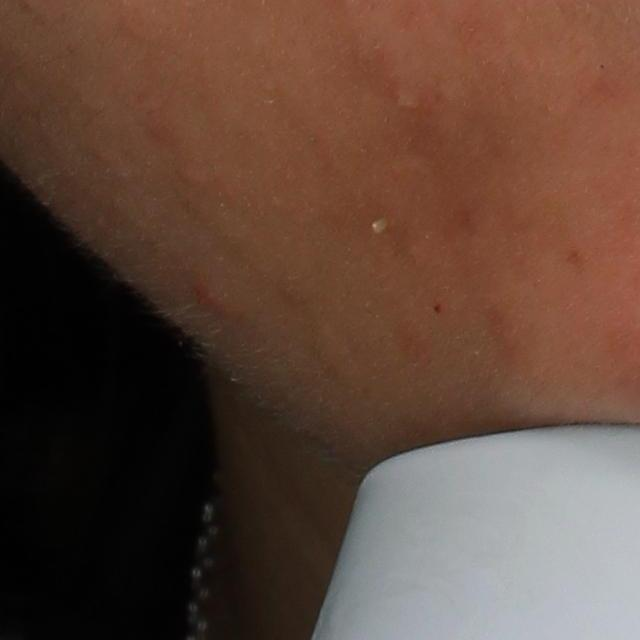papule: (372, 60, 443, 124), (189, 279, 235, 321)
